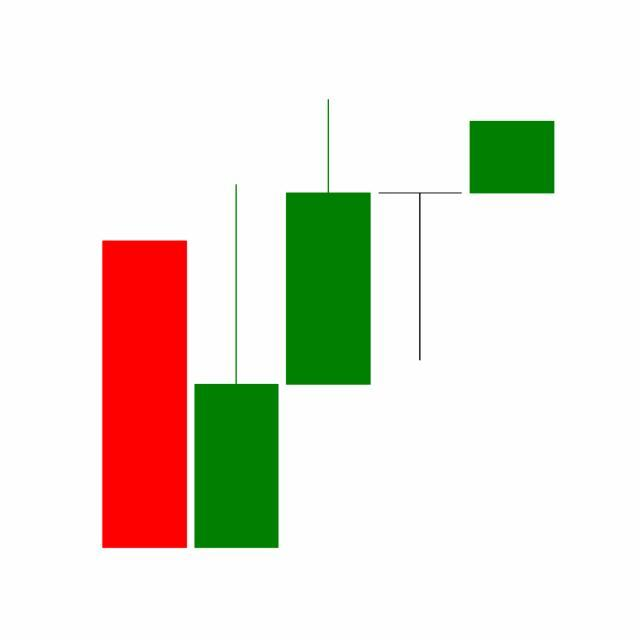Dragonfly Doji: (374, 191, 468, 364)
